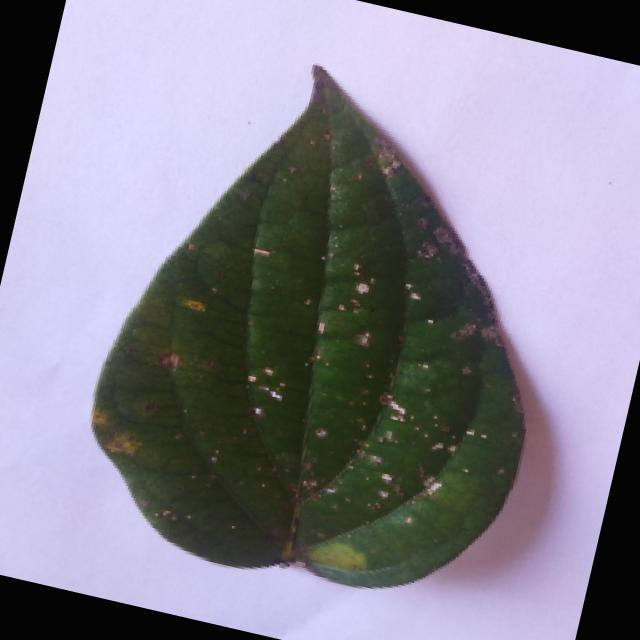pollu-disease: (42, 28, 607, 626)
